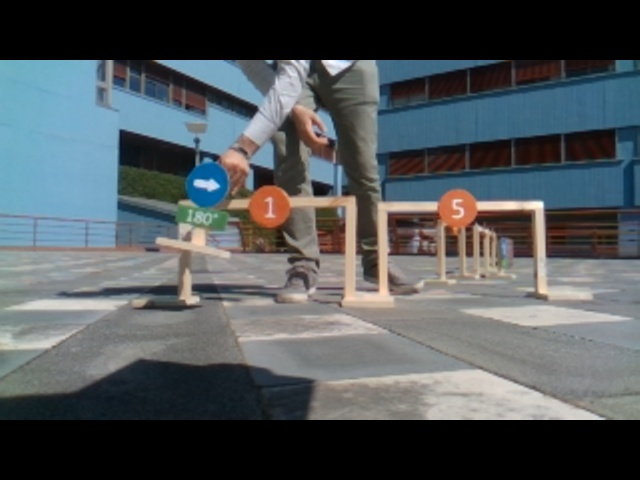180_degree: (174, 202, 232, 230)
arrow_right: (183, 161, 230, 207)
checkpoint_foot: (526, 278, 595, 303), (129, 287, 202, 310), (339, 286, 398, 310)
checkpoint_side: (527, 195, 554, 290), (373, 198, 394, 291), (433, 220, 450, 280)
checkpoint_signal: (374, 196, 547, 218), (234, 194, 361, 213)
five: (437, 189, 478, 228)
one: (244, 184, 295, 230)
